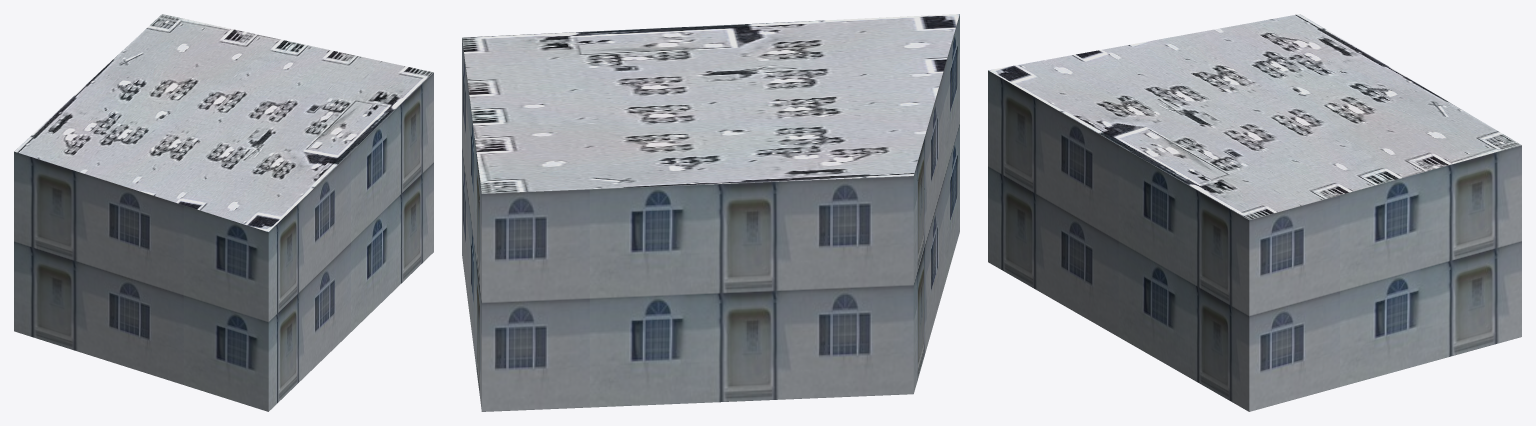
File: ResTex__2517.fbx
The picture shows the model from 3 angles, left to right: view 1: azimuth 30°, elevation 25°; view 2: azimuth 150°, elevation 25°; view 3: azimuth 270°, elevation 25°; orthographic projection. The views are drawn at different scales.
Parts seen in each view (by area): view 1: CityEngineMaterial_17_m, CityEngineMaterial_4_m; view 2: CityEngineMaterial_17_m, CityEngineMaterial_4_m; view 3: CityEngineMaterial_17_m, CityEngineMaterial_4_m.
Boxes of the visible parts, box(x1,y1,x2,y2) form: CityEngineMaterial_17_m: box(14, 72, 433, 411); CityEngineMaterial_4_m: box(14, 14, 433, 231); CityEngineMaterial_17_m: box(462, 14, 959, 411); CityEngineMaterial_4_m: box(462, 14, 959, 193); CityEngineMaterial_17_m: box(988, 70, 1521, 411); CityEngineMaterial_4_m: box(988, 14, 1521, 219).
Size of the model in its own units: 13.82 by 6 by 15.13.
2 materials, 2 textured.
